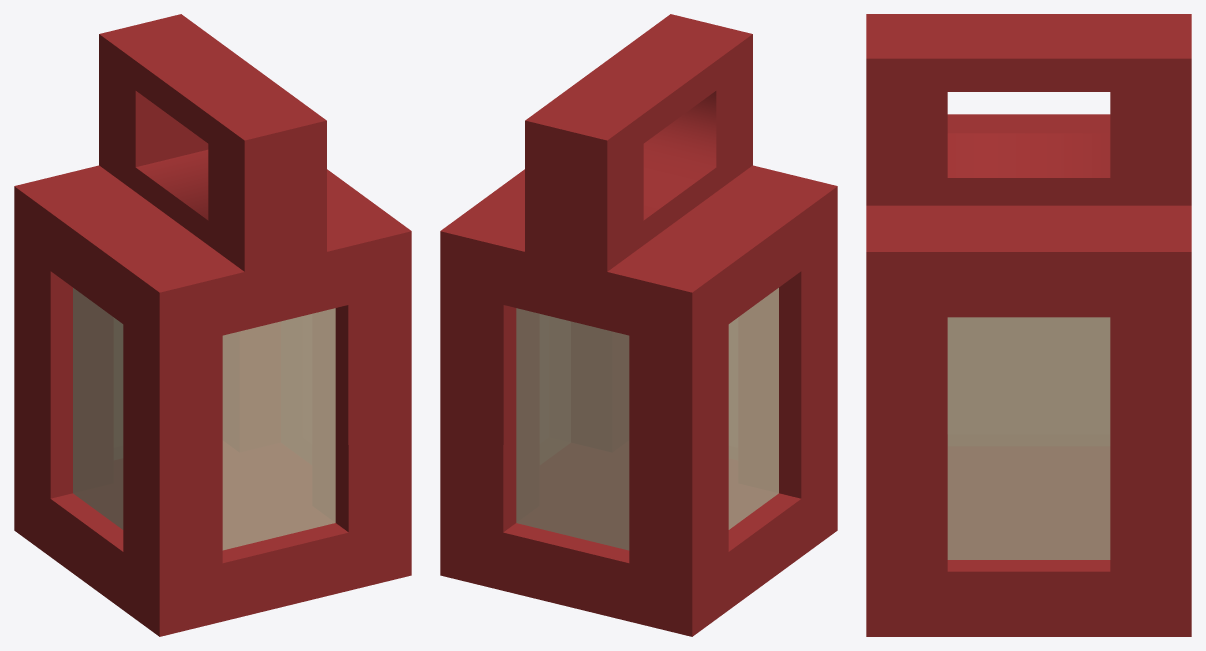
File: PillarLantern(Actual).fbx
3 views of the same model, side by side, from view 1: azimuth 30°, elevation 25°; view 2: azimuth 150°, elevation 25°; view 3: azimuth 270°, elevation 25° (orthographic). The views are drawn at different scales.
Visible parts, largest first — view 1: pCube57, pPlane10; view 2: pCube57, pPlane10; view 3: pCube57, pPlane10.
Boxes of the visible parts, x1=… form: pCube57: x1=14, y1=14, x2=411, y2=636; pPlane10: x1=73, y1=288, x2=335, y2=550; pCube57: x1=440, y1=14, x2=837, y2=636; pPlane10: x1=516, y1=288, x2=778, y2=550; pCube57: x1=866, y1=14, x2=1191, y2=636; pPlane10: x1=947, y1=317, x2=1110, y2=559.
Bounding box in the file's own units: 2.88 × 5.19 × 2.88.
